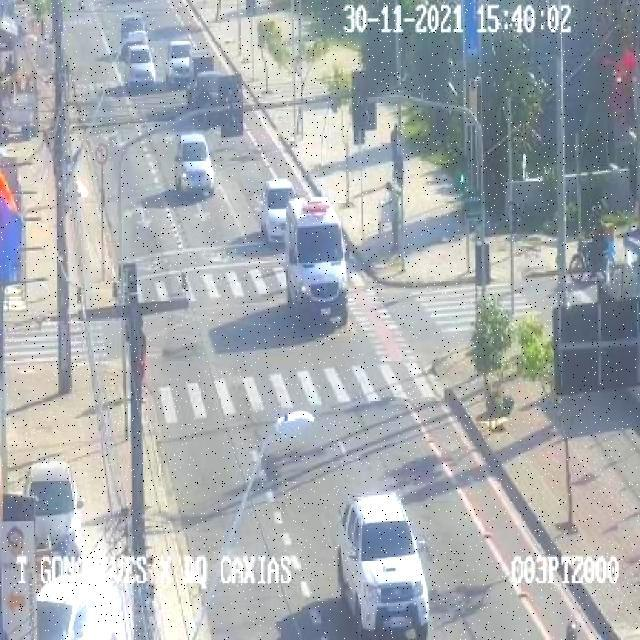Car: (328, 483, 434, 638), (29, 568, 114, 636), (25, 454, 87, 546), (166, 131, 218, 199), (261, 183, 307, 244), (117, 46, 159, 98), (165, 39, 204, 87), (113, 15, 156, 58)
Cycle: (553, 219, 620, 287)
Van: (282, 195, 359, 331)
